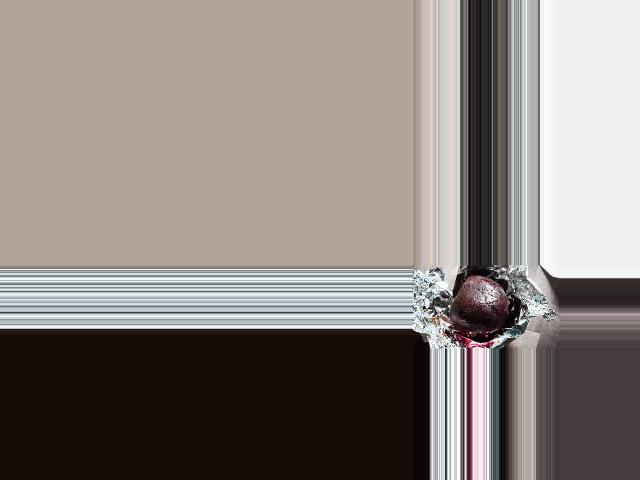beet: (448, 275, 509, 331)
